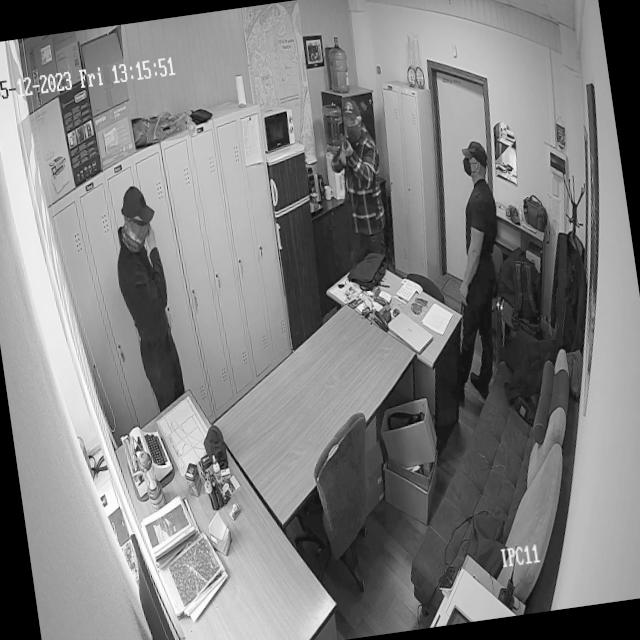gun: (336, 128, 356, 168)
person: (430, 136, 529, 414), (110, 184, 188, 411)
person with a gun: (324, 98, 398, 276)
